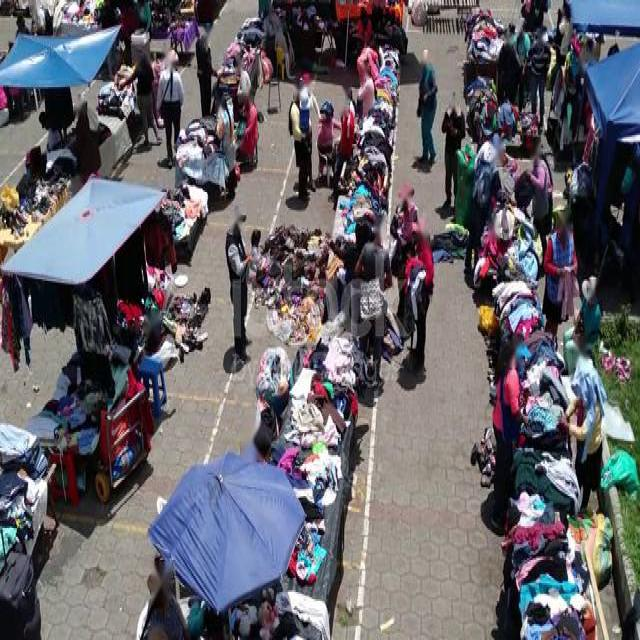fixed_stall: (202, 309, 364, 637), (0, 222, 177, 505), (469, 363, 614, 637), (250, 183, 386, 345), (476, 254, 565, 403), (569, 108, 638, 288), (0, 419, 56, 637), (0, 127, 79, 262), (469, 151, 543, 287), (116, 258, 210, 352), (282, 0, 406, 66), (548, 26, 604, 162), (95, 26, 166, 127), (464, 73, 538, 154), (210, 14, 267, 111), (172, 113, 240, 193), (345, 95, 398, 196), (159, 183, 208, 250), (463, 4, 506, 68), (369, 42, 400, 102)
sunshade: (146, 448, 306, 614), (0, 172, 166, 282), (0, 21, 121, 87), (583, 38, 638, 141)
